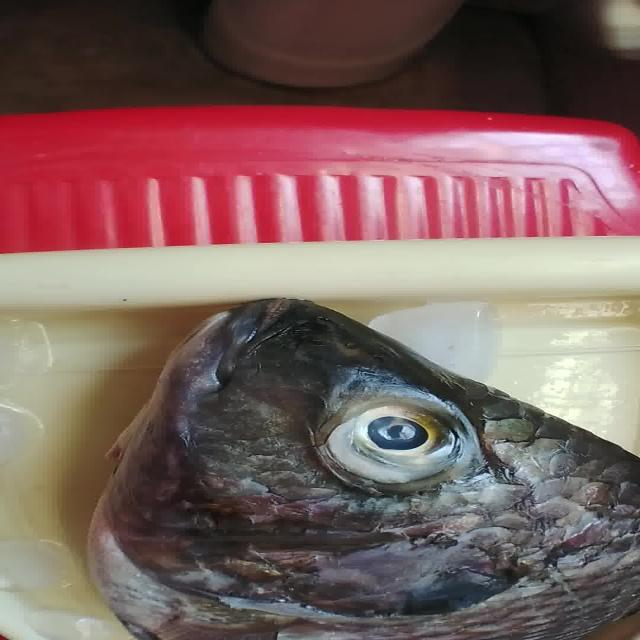Fresh: (290, 367, 512, 488)
